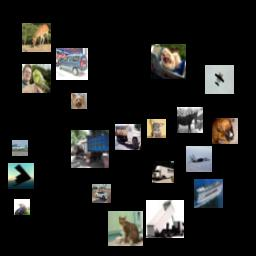airplane: (205, 65, 234, 94), (186, 146, 212, 172), (8, 163, 34, 189), (12, 140, 28, 156)
automobile: (56, 48, 88, 80), (92, 184, 111, 203)
bird: (22, 64, 51, 93)
cat: (108, 211, 143, 246), (14, 199, 30, 215)
deer: (22, 23, 51, 52)
dog: (151, 44, 186, 79), (212, 118, 238, 144), (147, 119, 166, 138), (71, 93, 87, 109)
ship: (194, 179, 223, 208)
truck: (146, 200, 184, 238), (71, 130, 109, 168), (115, 124, 141, 150), (152, 161, 174, 183)
